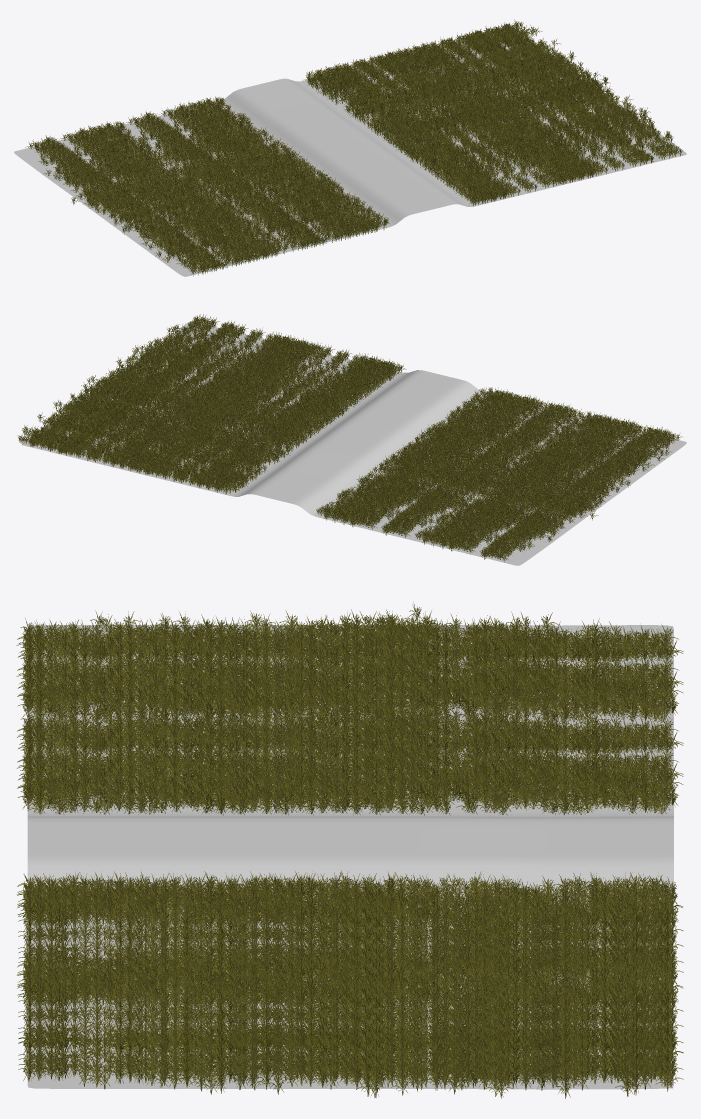
Rendered from Canhdonglua_v3.fbx.
3 views of the same model, one above another, from view 1: azimuth 30°, elevation 25°; view 2: azimuth 150°, elevation 25°; view 3: azimuth 270°, elevation 25° (orthographic). The views are drawn at different scales.
Visible parts, largest first — view 1: Caylua_low.2478, Plane; view 2: Caylua_low.2478, Plane; view 3: Caylua_low.2478, Plane.
Part boxes in pixels (bbox=[...]): Caylua_low.2478: bbox=[25, 19, 682, 276]; Plane: bbox=[14, 32, 686, 276]; Caylua_low.2478: bbox=[18, 314, 681, 561]; Plane: bbox=[22, 321, 686, 565]; Caylua_low.2478: bbox=[16, 603, 683, 1098]; Plane: bbox=[27, 625, 673, 1089].
Bounding box in the file's own units: 5370 × 153 × 3124.
